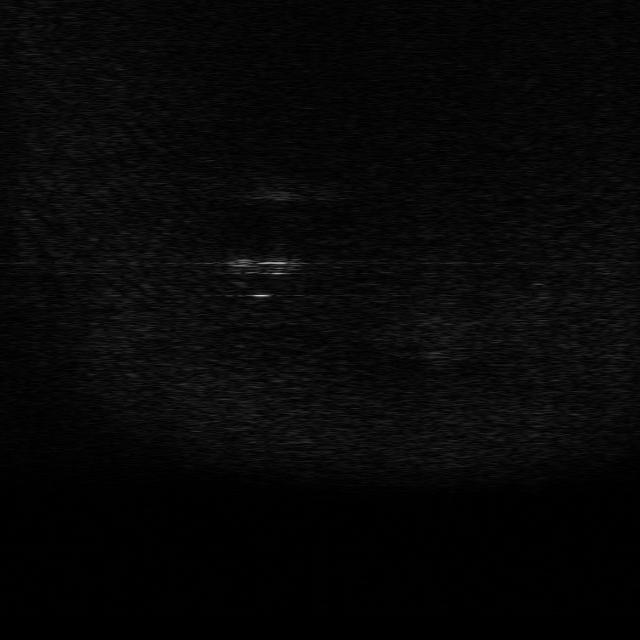plane: (222, 243, 302, 279)
